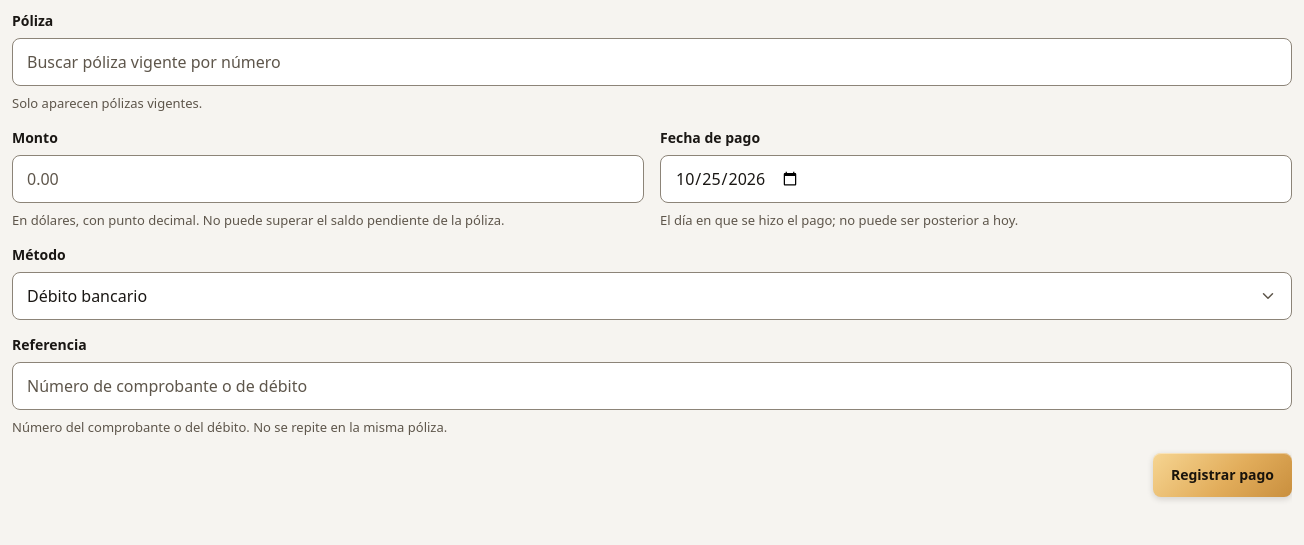
Test: FormularioPago (HU-16) › muestra la referencia repetida bajo la referencia
Type "POL" into the dropdown labelled "Póliza" at (652, 62), box [12, 38, 1292, 86]
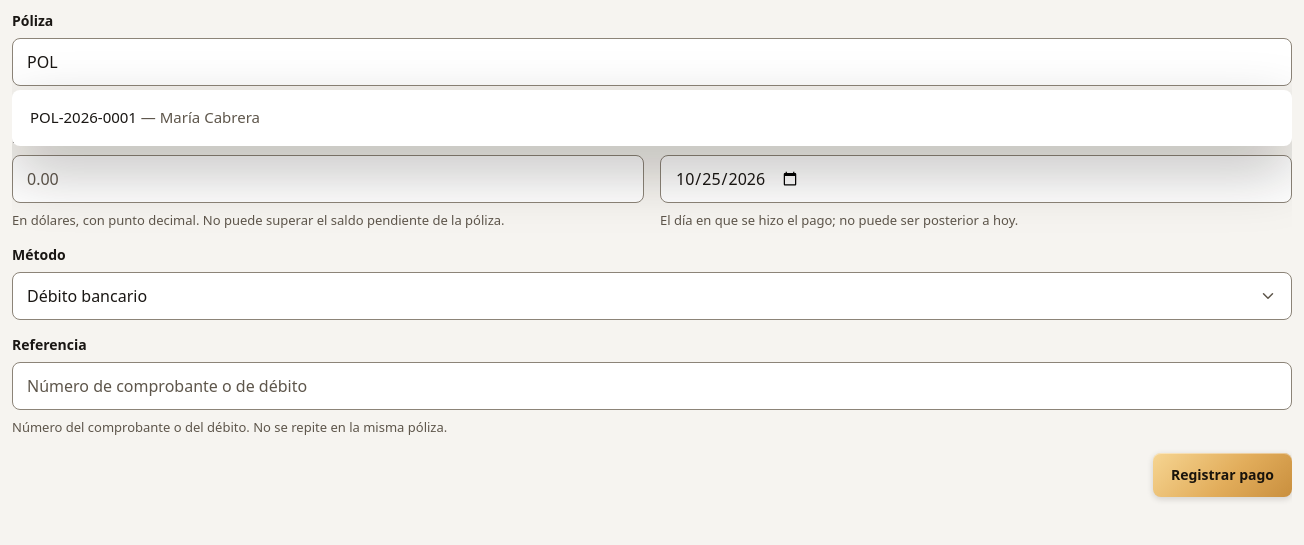
Click the option "POL-2026-0001 — María Cabrera" at (145, 117), box [30, 107, 260, 127]
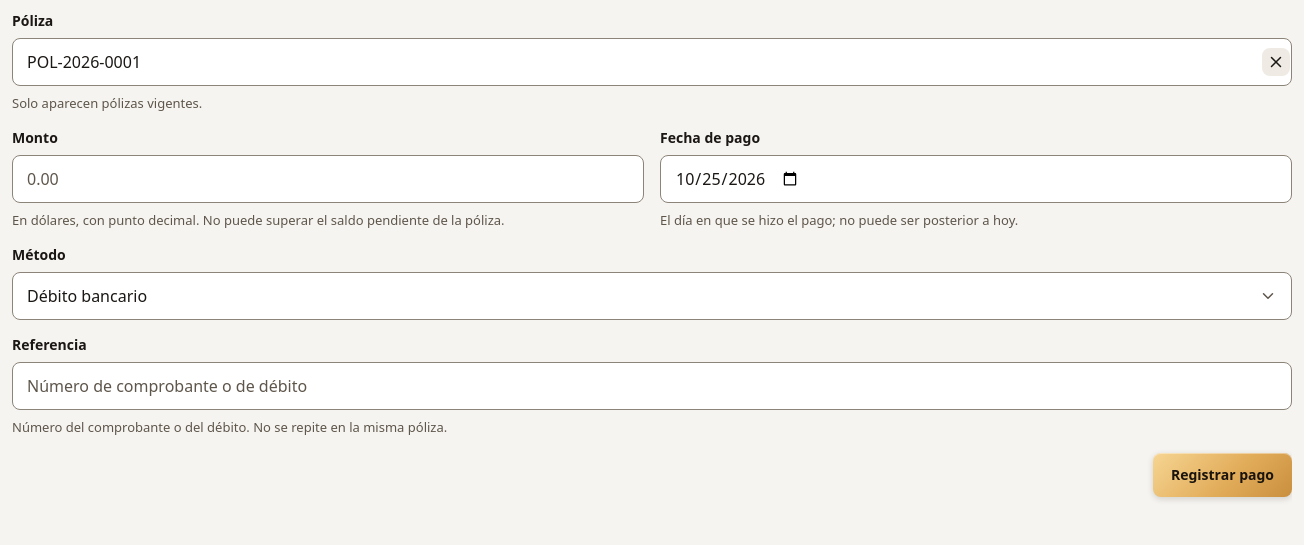
Type "10.00" into the field labelled "Monto" at (328, 179), box [12, 155, 644, 203]
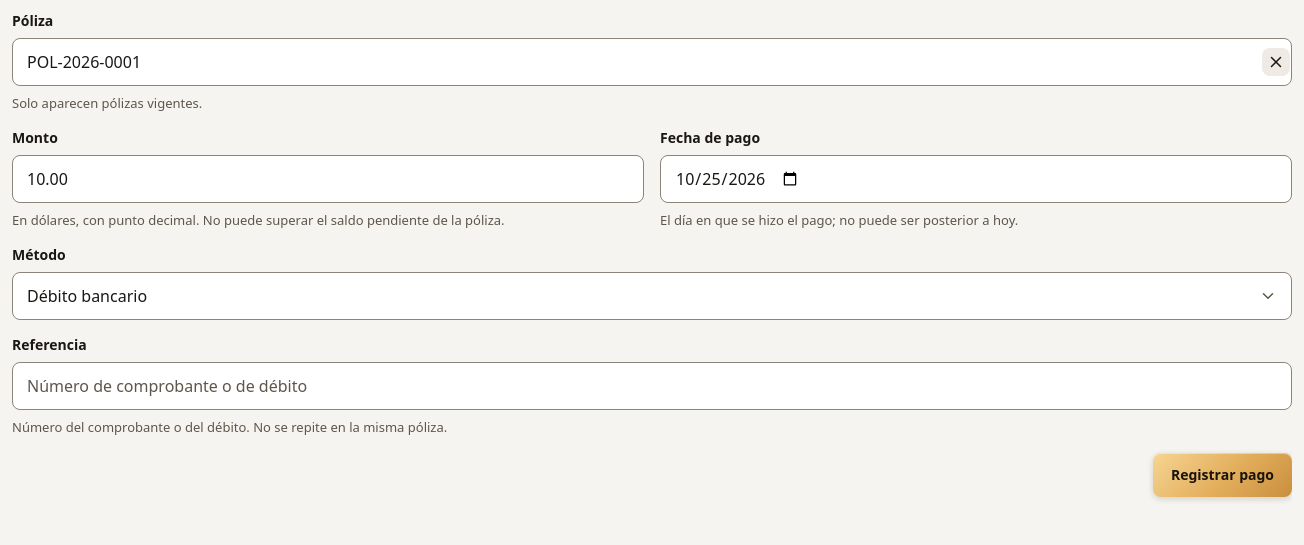
Type "DB-0001" into the field labelled "Referencia" at (652, 386), box [12, 362, 1292, 410]
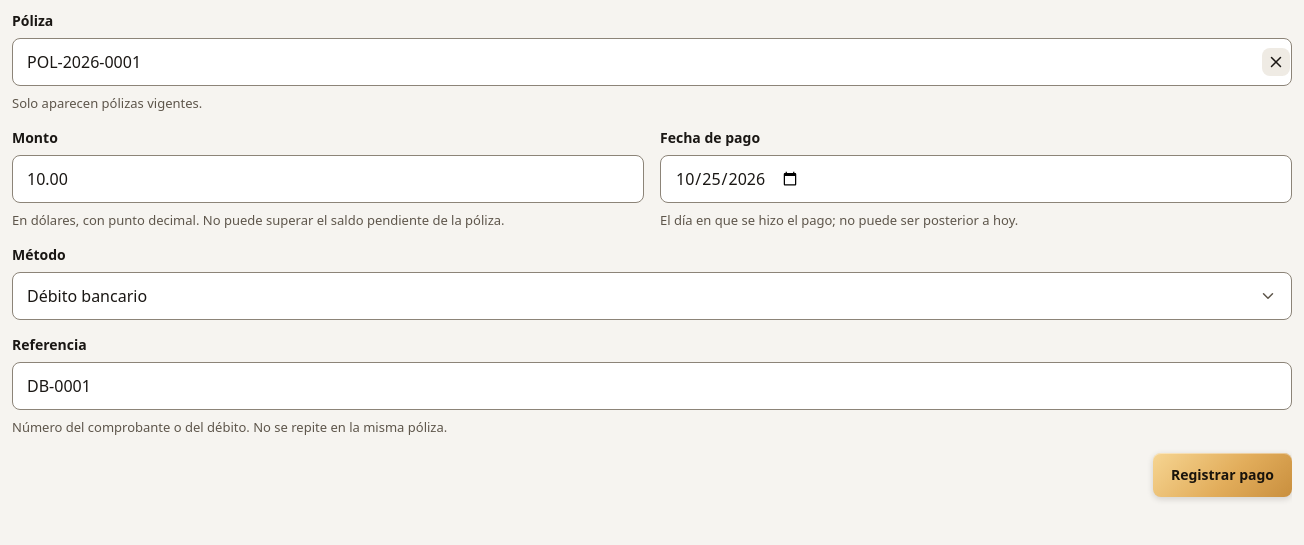
Click the button "Registrar pago" at (1222, 475), box [1153, 453, 1292, 497]
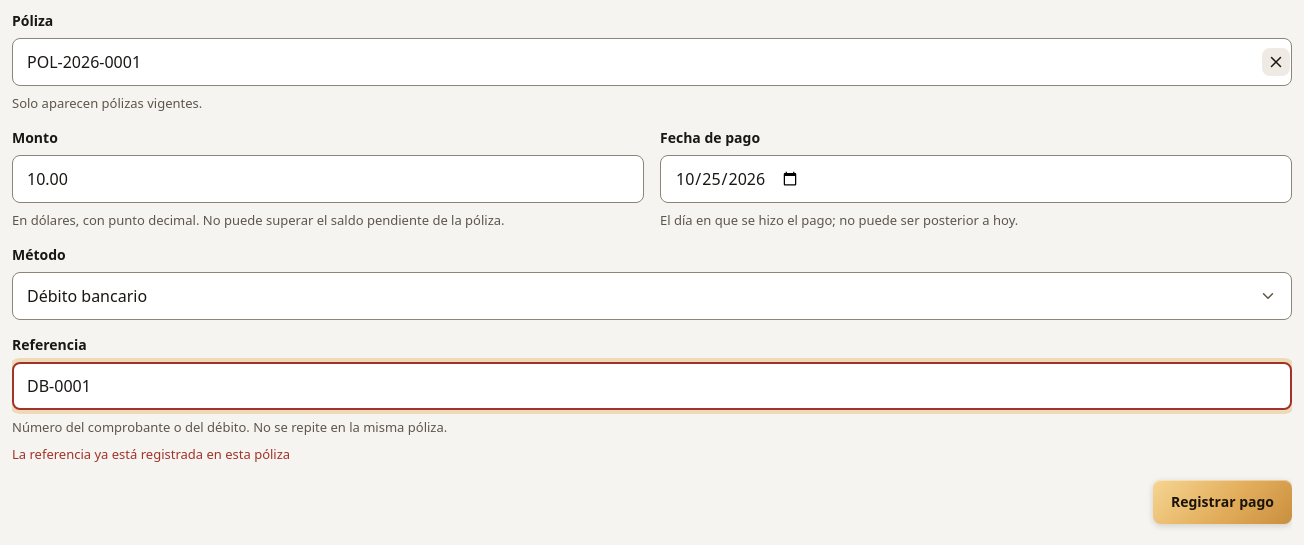
Now the text "La referencia ya está registrada en esta póliza" is shown, box [12, 445, 290, 463]
